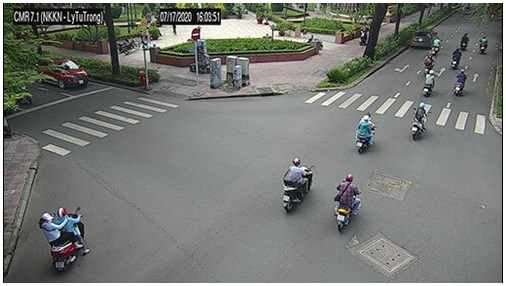xe_hoi: (36, 58, 90, 88), (411, 27, 438, 50)
xe_may: (40, 206, 92, 271), (282, 157, 314, 212), (334, 172, 362, 231), (354, 112, 377, 155), (408, 102, 428, 144), (115, 35, 141, 56), (452, 67, 468, 99), (422, 69, 436, 97), (422, 50, 437, 70), (451, 47, 463, 69), (460, 30, 470, 51), (479, 34, 488, 53), (431, 38, 442, 52), (359, 28, 368, 44)
